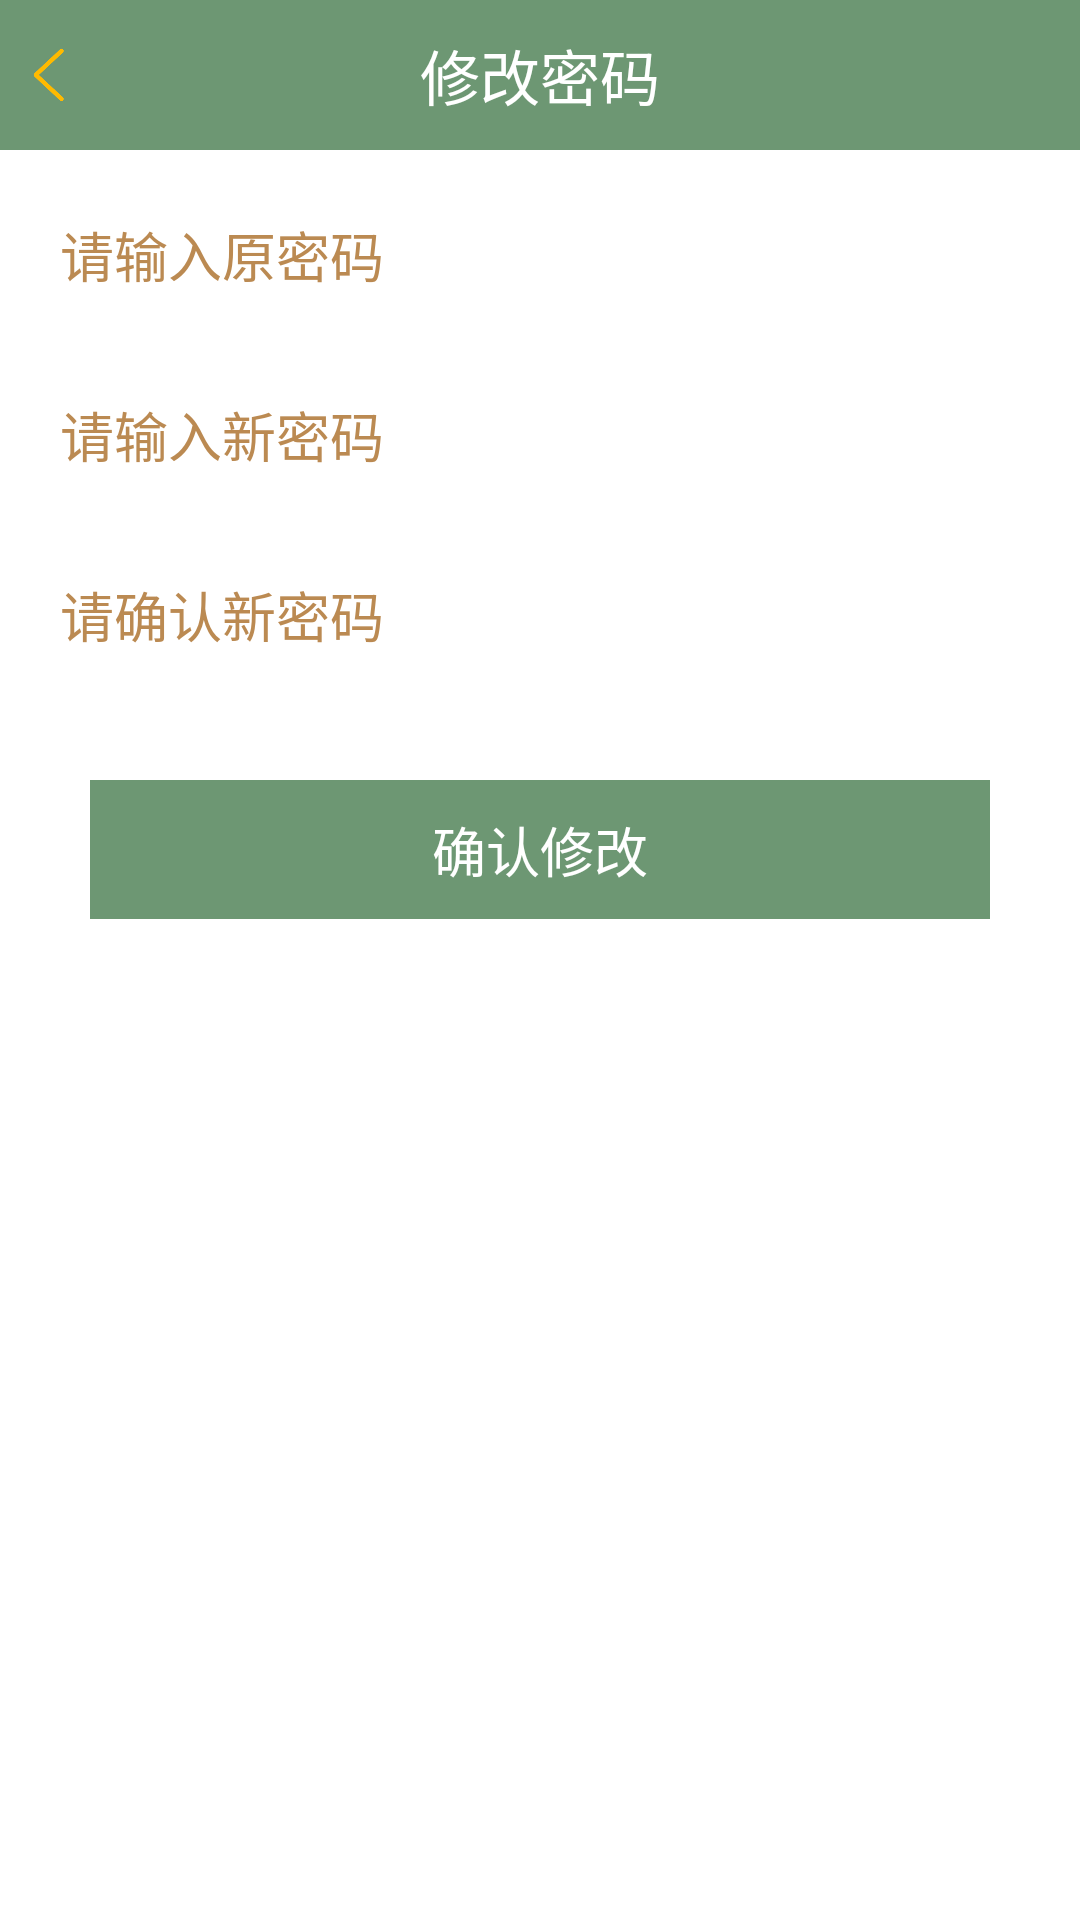

Named icons in this screenshot (1080×1920) and their centers, (x=x, y=y):
back: (x=49, y=75)
